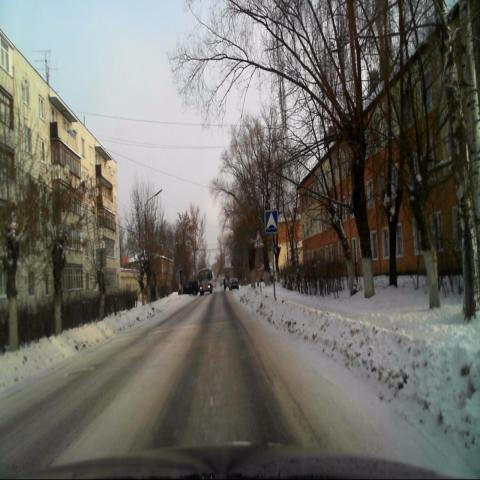5_20: (264, 210, 278, 235)
